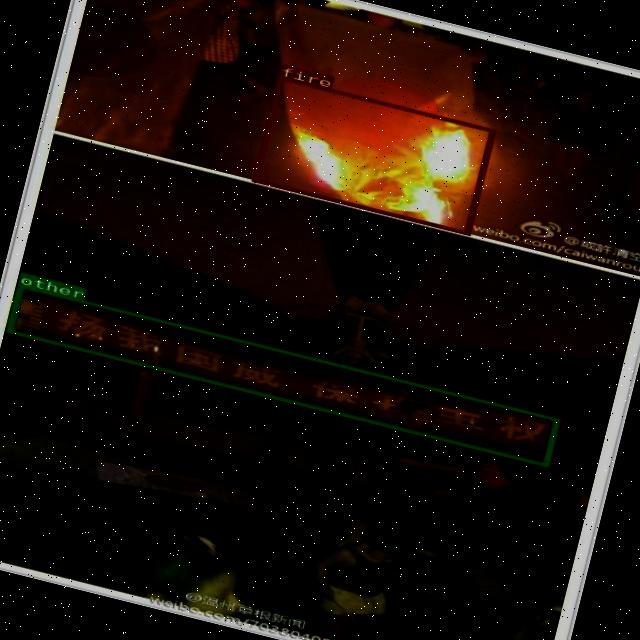fire: (251, 75, 494, 234)
